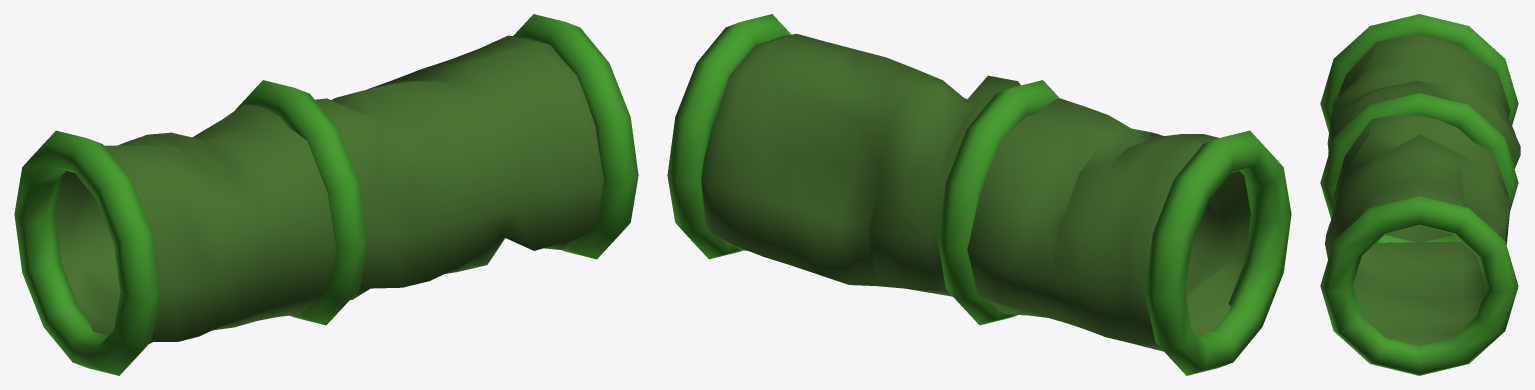
Rendered from cattunnel.fbx.
3 renders of one model, left to right at view 1: azimuth 30°, elevation 25°; view 2: azimuth 150°, elevation 25°; view 3: azimuth 270°, elevation 25°, orthographic. The views are drawn at different scales.
Visible parts, largest first — view 1: mesh_0; view 2: mesh_0; view 3: mesh_0.
Part boxes in pixels (<box>): mesh_0: <box>14,14,638,375</box>; mesh_0: <box>667,14,1291,375</box>; mesh_0: <box>1320,14,1520,375</box>.
Size of the model in its own units: 111 by 47.87 by 48.36.
